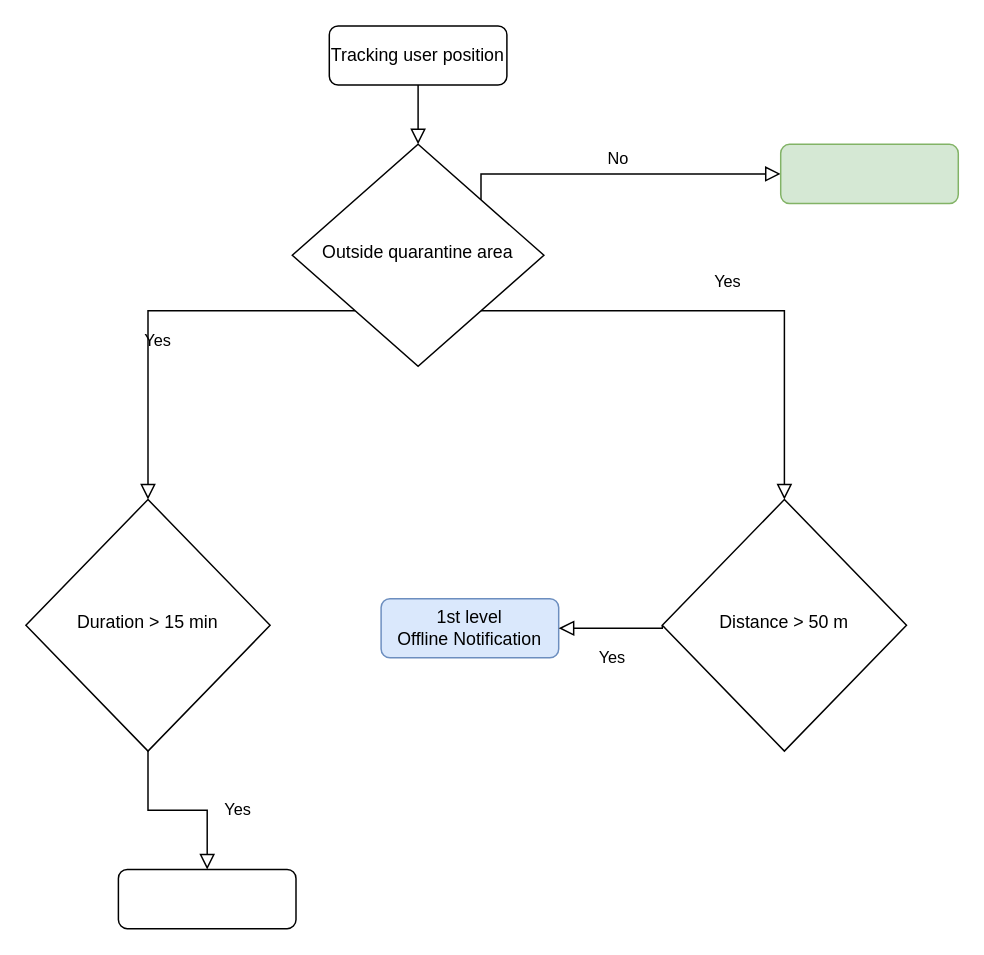
Some shapes in this 984 by 955 pixel diagram are drawn without their labels. The centre of each missing label's shape, as x and y in pixels:
Quarantine respected: (x=868, y=173)
Repair Lamp: (x=206, y=898)
